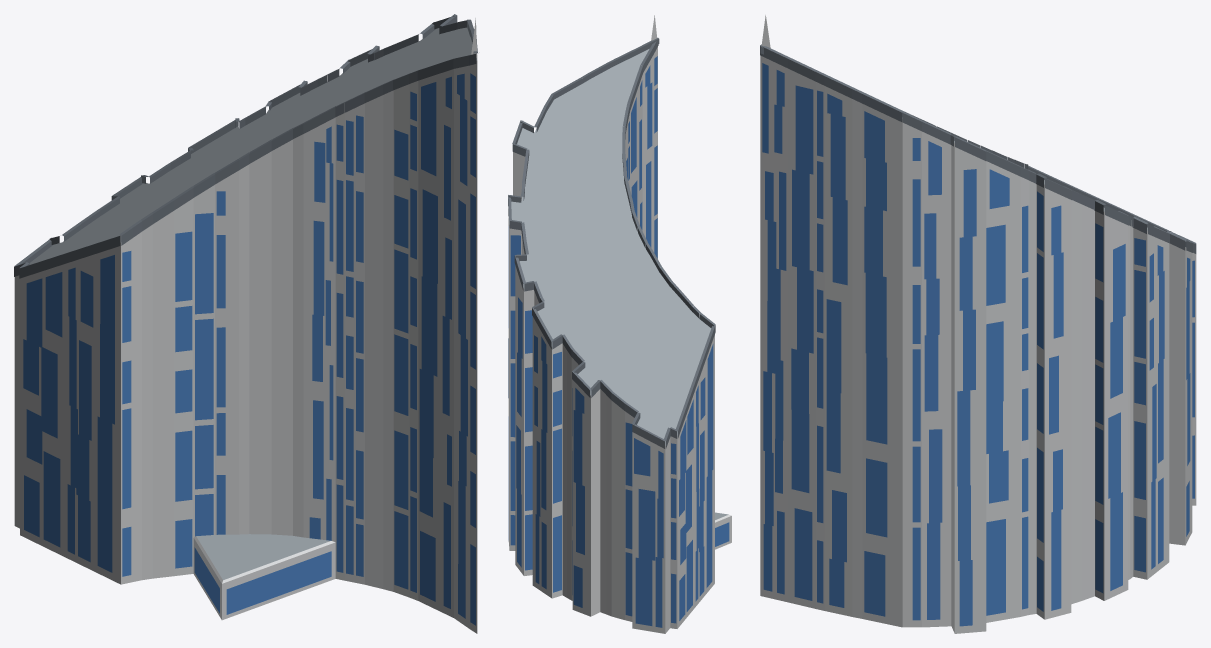
Rendered from cin-ascent.glb.
3 renders of one model, left to right at view 1: azimuth 30°, elevation 25°; view 2: azimuth 150°, elevation 25°; view 3: azimuth 270°, elevation 25°, orthographic. The views are drawn at different scales.
Parts seen in each view (by area): view 1: The Ascent at Roebling's Bridge; view 2: The Ascent at Roebling's Bridge; view 3: The Ascent at Roebling's Bridge.
Boxes of the visible parts, box(x1,y1,x2,y2) form: The Ascent at Roebling's Bridge: box(14, 14, 477, 633); The Ascent at Roebling's Bridge: box(508, 15, 731, 633); The Ascent at Roebling's Bridge: box(760, 15, 1196, 633).
Bounding box in the file's own units: 53.14 × 95.9 × 65.18.
